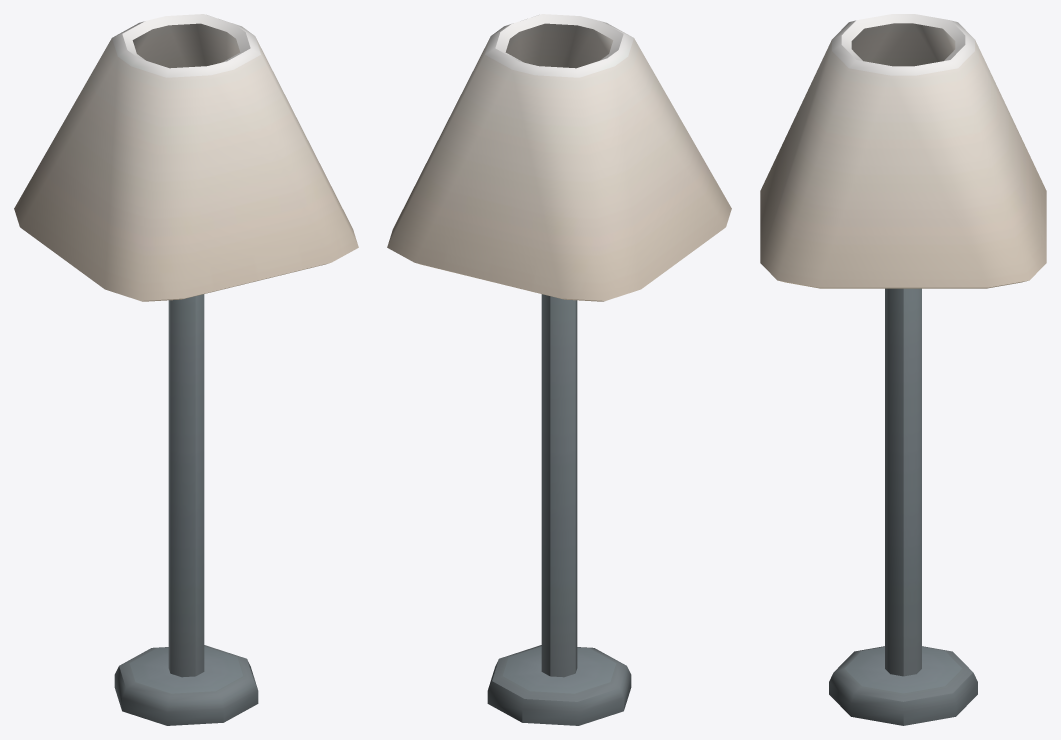
Rendered from kaykit-lamp-standing.glb.
The picture shows the model from 3 angles, left to right: view 1: azimuth 30°, elevation 25°; view 2: azimuth 150°, elevation 25°; view 3: azimuth 270°, elevation 25°; orthographic projection.
Parts seen in each view (by area): view 1: lamp_standing; view 2: lamp_standing; view 3: lamp_standing.
Part boxes in pixels (x1,y1,x2,y2): lamp_standing: (14,14,358,725); lamp_standing: (387,14,731,725); lamp_standing: (760,14,1046,725).
Size of the model in its own units: 0.9999 by 2.52 by 0.9999.
Materials: 1 (1 with a texture image).
